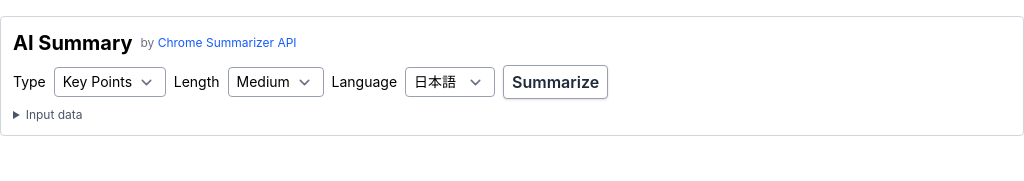
it: ActivitySummary › 要約に失敗した場合はエラーを表示する
The width and height of the screenshot is (1024, 181).
Click the button "Summarize". click: (556, 82)
box: [503,65,608,99]
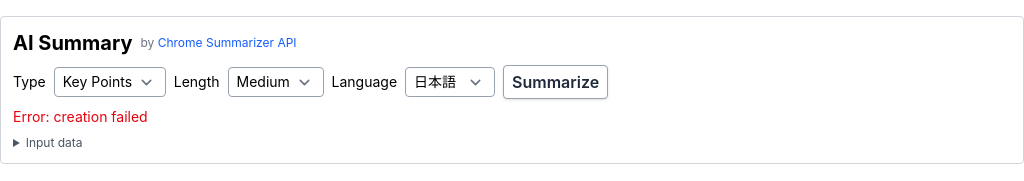
Expected: the text "Error: creation failed" is shown, [13,108,148,125]
